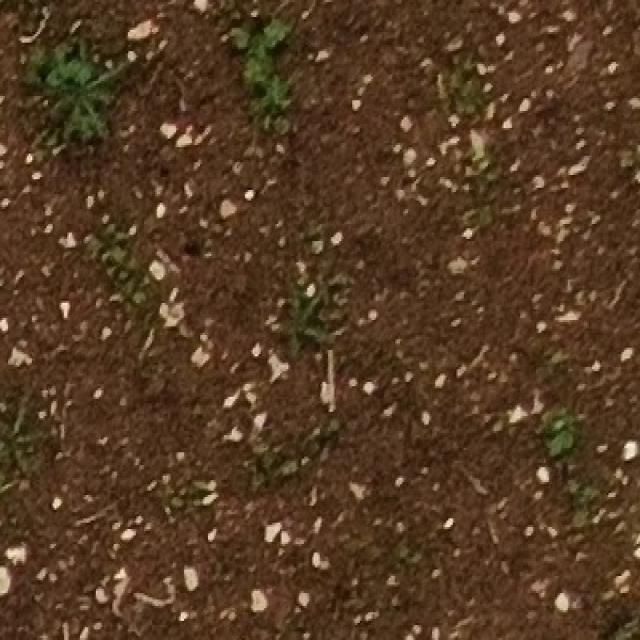cirse: (43, 31, 133, 142), (41, 28, 128, 141), (47, 37, 135, 148), (1, 400, 51, 504), (0, 390, 49, 492), (0, 373, 51, 470), (287, 289, 346, 366), (285, 282, 341, 357), (292, 284, 351, 355)
